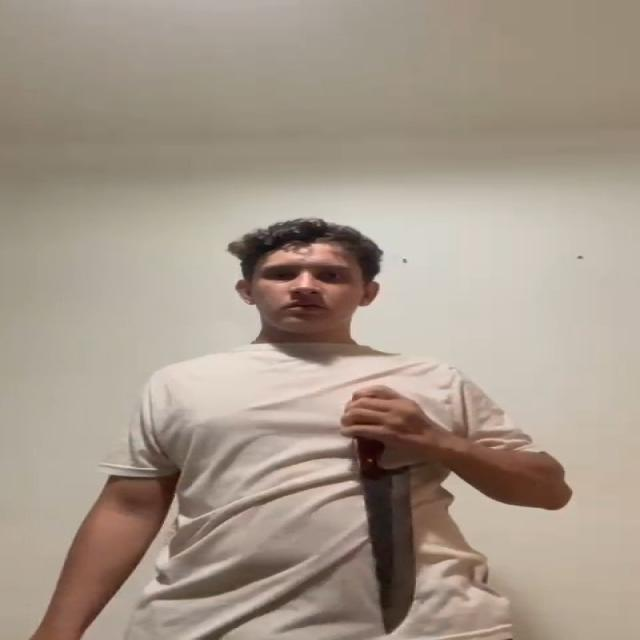knife: (357, 468, 420, 631)
